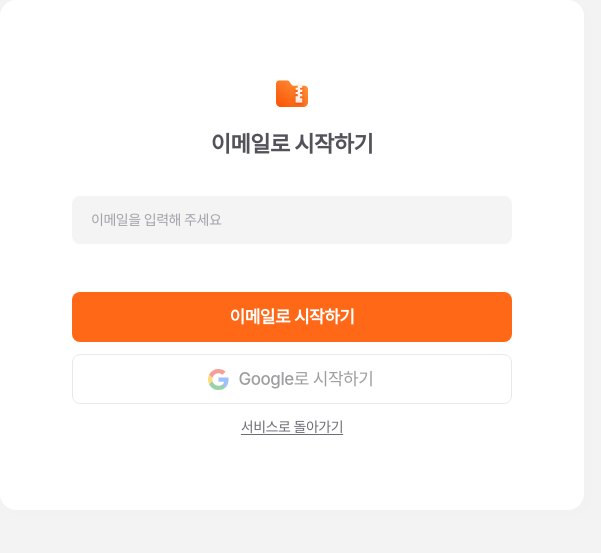
Scenario: AuthEntryPage › guides a Google-only account to Google login
Step 1. Type "google@example.com" into the field labelled "이메일" → (292, 220), box [91, 209, 493, 231]
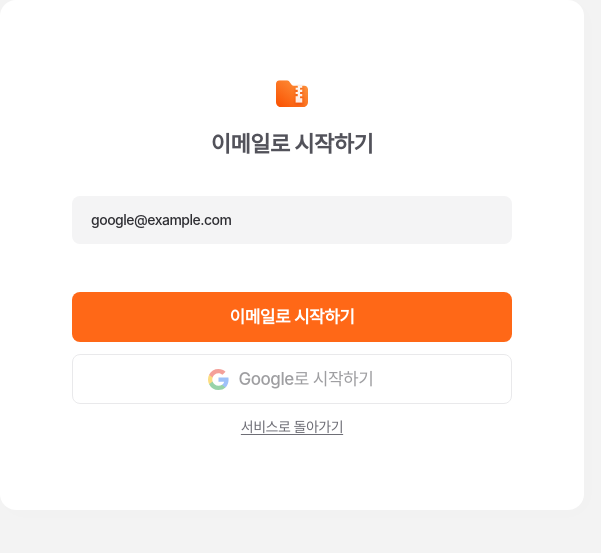
Step 2. Click the button "이메일로 시작하기" → (292, 317), box [72, 292, 512, 342]
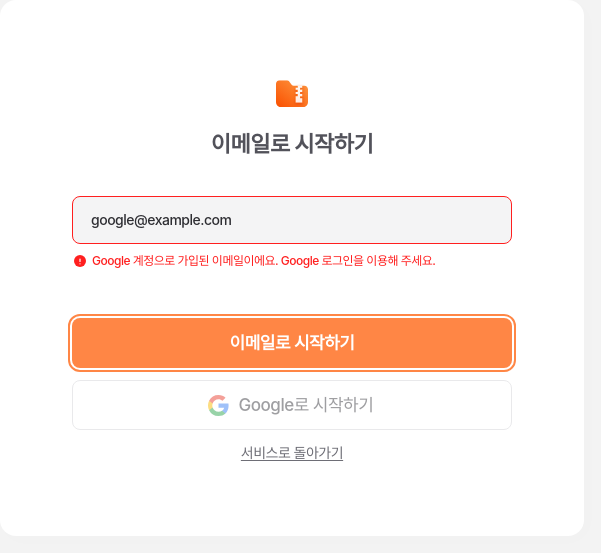
Result: the message reads "Google 계정으로 가입된 이메일이에요. Google 로그인을 이용해 주세요." at [92, 253, 435, 268]
